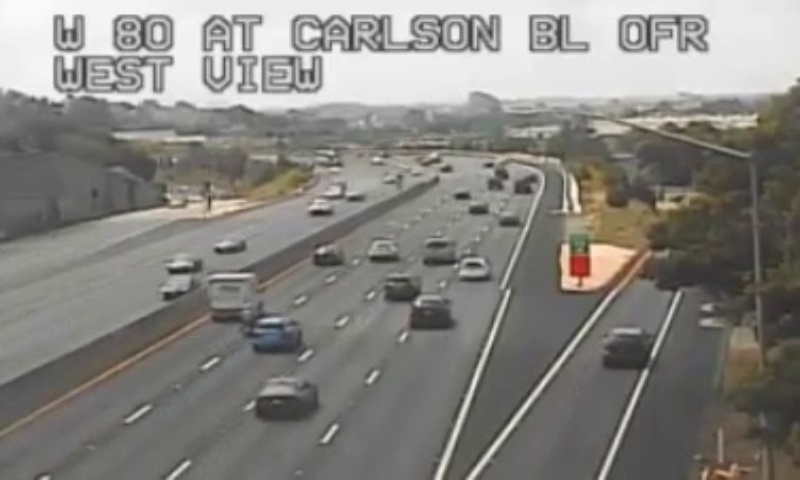car: (257, 378, 317, 416), (600, 326, 651, 368), (256, 317, 300, 349), (410, 294, 448, 323), (382, 274, 419, 301), (457, 258, 491, 279)
small-truck: (204, 272, 261, 321)
